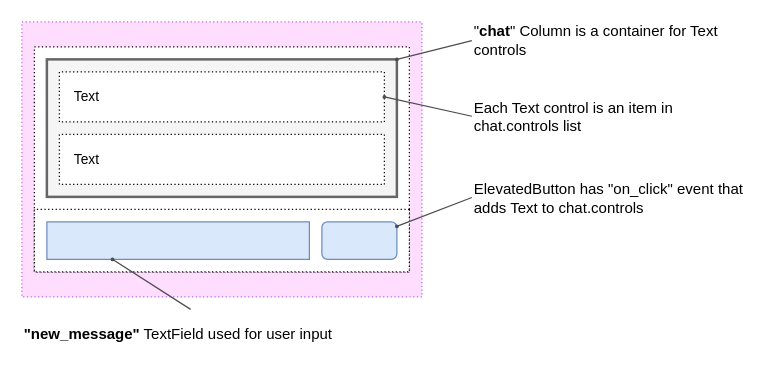
The diagram is 781 pixels wide and 380 high, and some of its shapes have lost their labels. The shapes that lost their labels are listed below. From the top down, each one's centre as x and y in pixels, then its label:
(x=177, y=240): TextField
(x=359, y=240): Send
